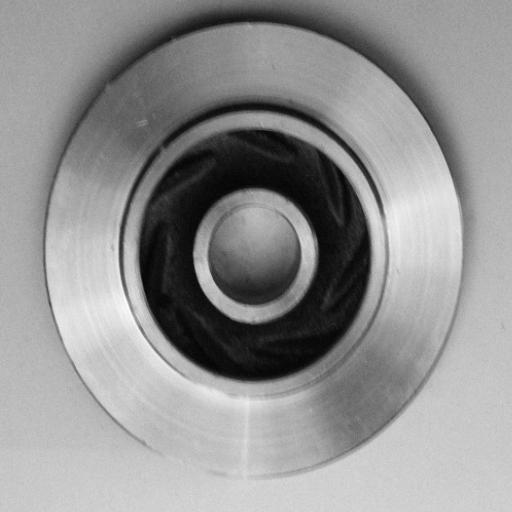unpolished_casting: (43, 16, 465, 481)
